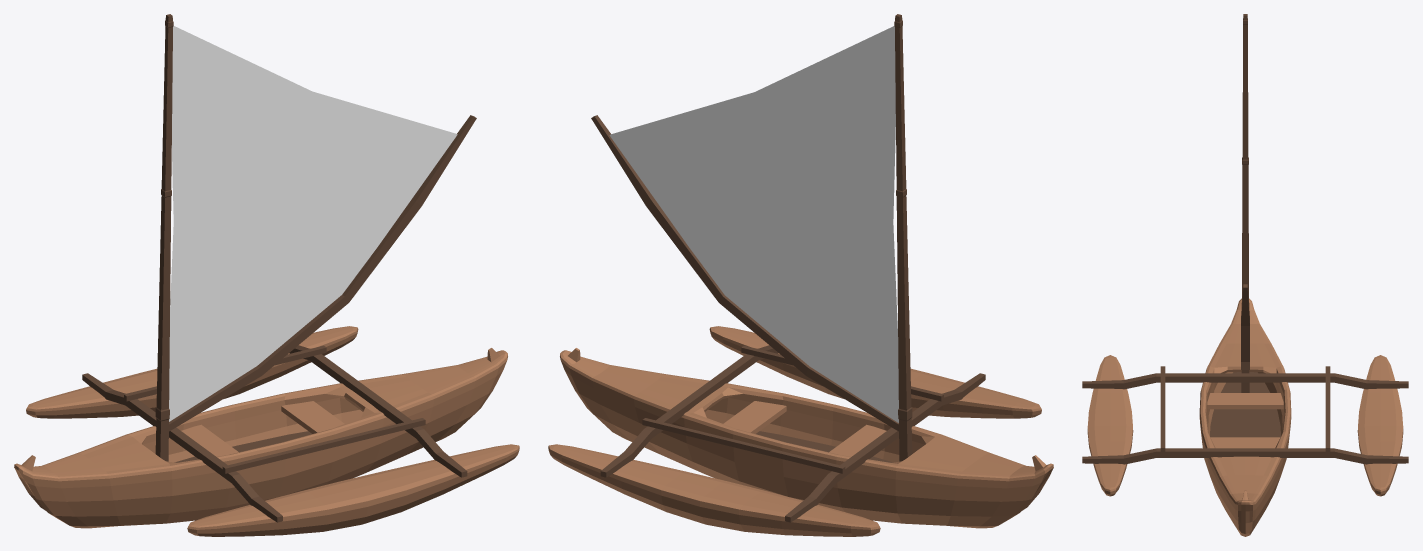
File: boat.fbx
3 views of the same model, side by side, from view 1: azimuth 30°, elevation 25°; view 2: azimuth 150°, elevation 25°; view 3: azimuth 270°, elevation 25° (orthographic). The views are drawn at different scales.
Parts seen in each view (by area): view 1: sail, boat; view 2: sail, boat; view 3: boat, sail.
Boxes of the visible parts, bbox=[...] form: sail: bbox=[155, 14, 476, 461]; boat: bbox=[14, 326, 519, 536]; sail: bbox=[591, 14, 912, 461]; boat: bbox=[548, 326, 1053, 536]; boat: bbox=[1082, 298, 1408, 536]; sail: bbox=[1241, 14, 1249, 392].
Bounding box in the file's own units: 6.99 × 6.99 × 4.82.
